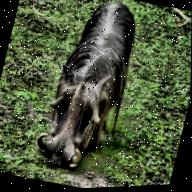boar: (31, 0, 161, 186)
